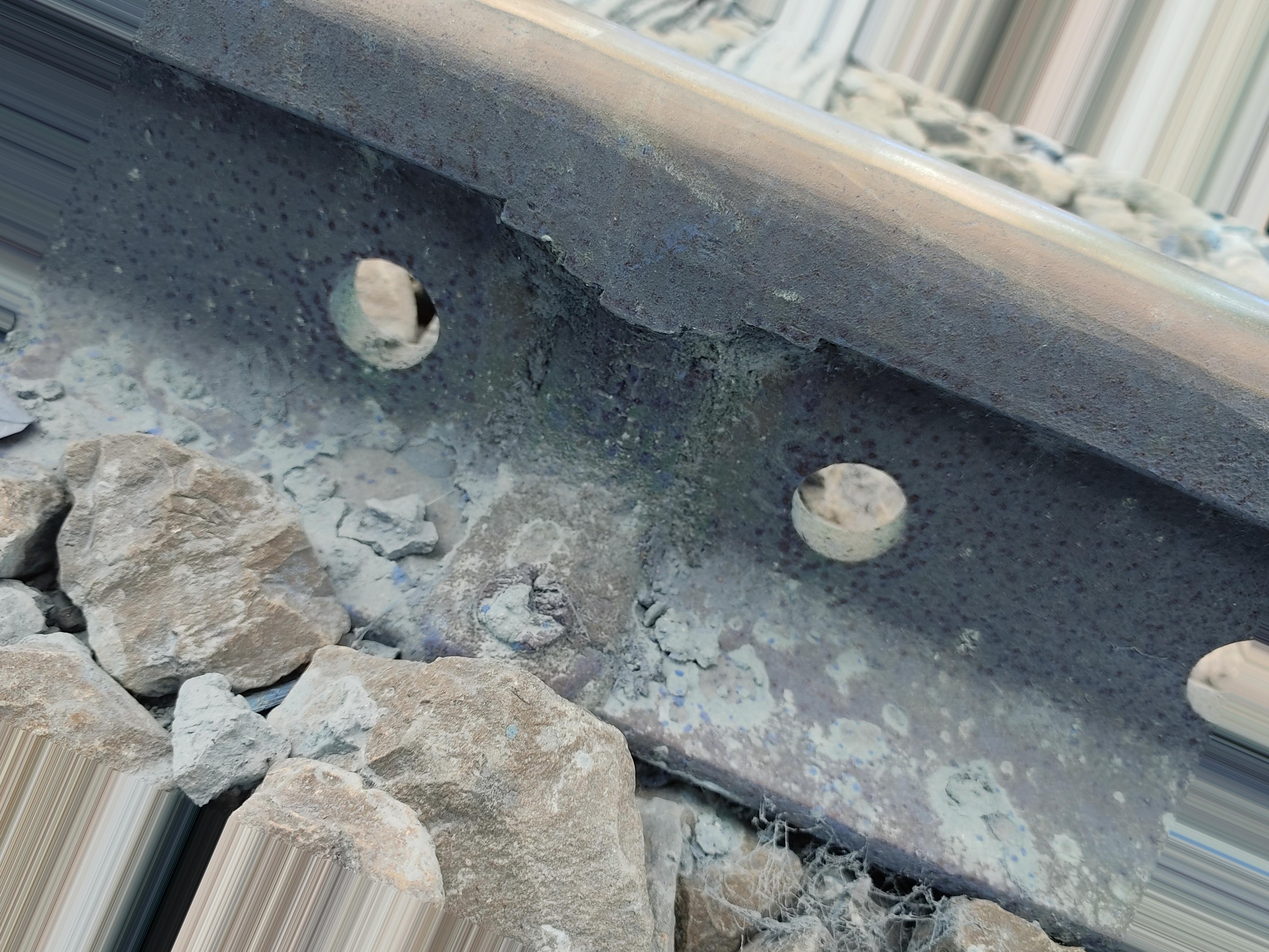tracks_fault: (339, 222, 943, 633)
